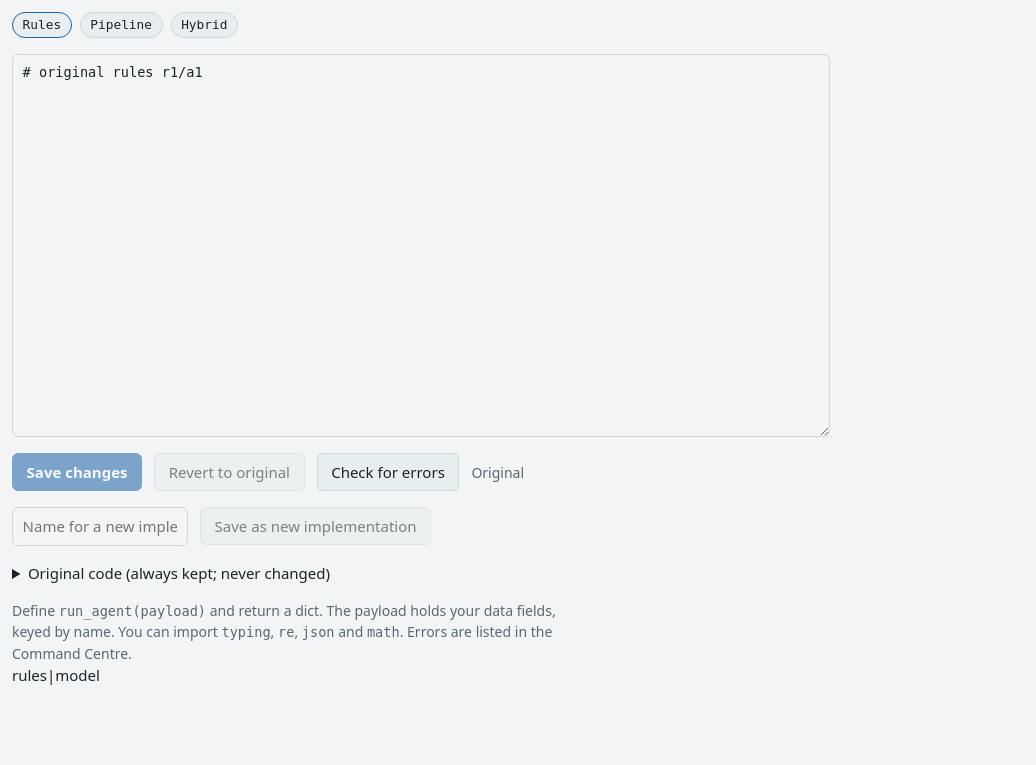
CodePanel Check for errors › lists warnings
The width and height of the screenshot is (1036, 765).
What coordinates should you click on to do the following:
click the button "Check for errors"
I would click on:
 (388, 472)
Its box is [317,453,459,491].
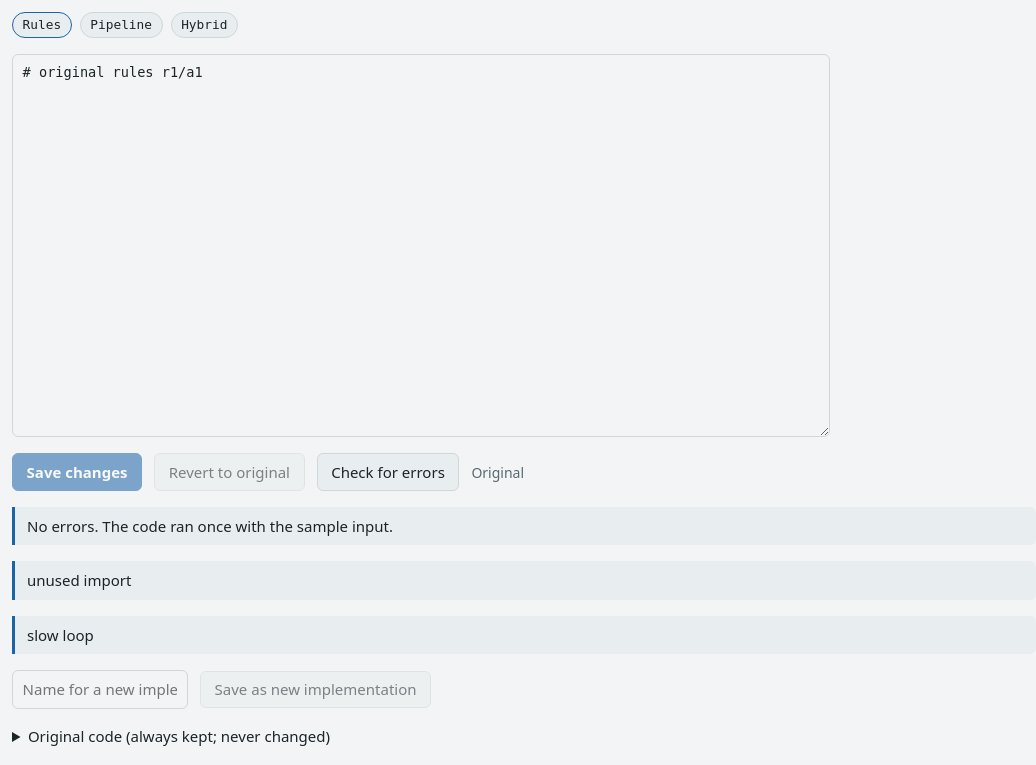
Result: the text "unused import" is shown at [12,561,1035,600]
Result: the text "slow loop" is shown at [12,616,1035,654]
Result: the text "No errors. The code ran once with the sample input." is shown at [12,507,1035,545]
